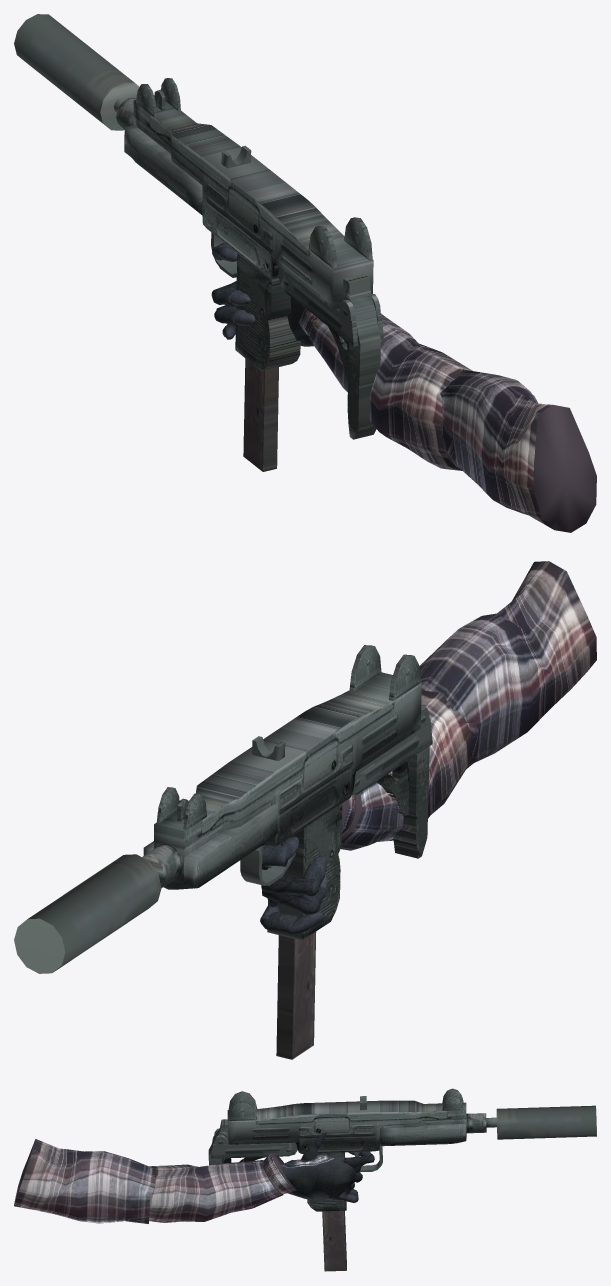
The model's file is uzi_vfire.fbx.
3 renders of one model, top to bottom at view 1: azimuth 30°, elevation 25°; view 2: azimuth 150°, elevation 25°; view 3: azimuth 270°, elevation 25°, orthographic. The views are drawn at different scales.
Parts seen in each view (by area): view 1: uzi_body, rupperarm, rforearm, uzi_silencer, uzi_grip, uzi_pad, uzi_clip, uzi_frontgrip, uzi_stocksupport, uzi_frontsight; view 2: uzi_body, rupperarm, uzi_silencer, rforearm, uzi_clip, uzi_grip, uzi_frontgrip, uzi_pad, uzi_stocksupport, uzi_frontsight, uzi_trigger, uzi_barrel (+2 smaller); view 3: uzi_body, rupperarm, rforearm, uzi_silencer, rhand, uzi_frontgrip, uzi_clip, uzi_stocksupport, uzi_grip, uzi_barrel, uzi_frontsight, uzi_pad (+2 smaller).
Boxes of the visible parts, bbox=[...] form: uzi_body: bbox=[133, 95, 373, 309]; rupperarm: bbox=[440, 369, 596, 532]; rforearm: bbox=[299, 308, 472, 470]; uzi_silencer: bbox=[14, 14, 139, 130]; uzi_grip: bbox=[235, 253, 300, 371]; uzi_pad: bbox=[343, 273, 380, 439]; uzi_clip: bbox=[243, 358, 278, 471]; uzi_frontgrip: bbox=[124, 125, 202, 214]; uzi_stocksupport: bbox=[278, 267, 383, 346]; uzi_frontsight: bbox=[136, 78, 180, 117]; uzi_body: bbox=[154, 645, 421, 884]; rupperarm: bbox=[419, 561, 596, 768]; uzi_silencer: bbox=[14, 854, 161, 973]; rforearm: bbox=[340, 690, 472, 850]; uzi_clip: bbox=[276, 931, 316, 1059]; uzi_grip: bbox=[267, 803, 342, 940]; uzi_frontgrip: bbox=[143, 804, 277, 889]; uzi_pad: bbox=[393, 746, 429, 858]; uzi_stocksupport: bbox=[352, 706, 432, 795]; uzi_frontsight: bbox=[156, 787, 206, 830]; uzi_trigger: bbox=[240, 844, 295, 885]; uzi_barrel: bbox=[142, 843, 183, 887]; uzi_body: bbox=[227, 1091, 466, 1153]; rupperarm: bbox=[14, 1139, 155, 1223]; rforearm: bbox=[149, 1152, 296, 1222]; uzi_silencer: bbox=[496, 1105, 596, 1139]; rhand: bbox=[280, 1157, 357, 1200]; uzi_frontgrip: bbox=[380, 1124, 466, 1146]; uzi_clip: bbox=[322, 1210, 346, 1271]; uzi_stocksupport: bbox=[211, 1128, 297, 1158]; uzi_grip: bbox=[307, 1152, 346, 1211]; uzi_barrel: bbox=[466, 1113, 496, 1133]; uzi_frontsight: bbox=[442, 1088, 463, 1110]; uzi_pad: bbox=[208, 1119, 228, 1165].
Size of the model in its own units: 5.15 by 13.84 by 41.23.
